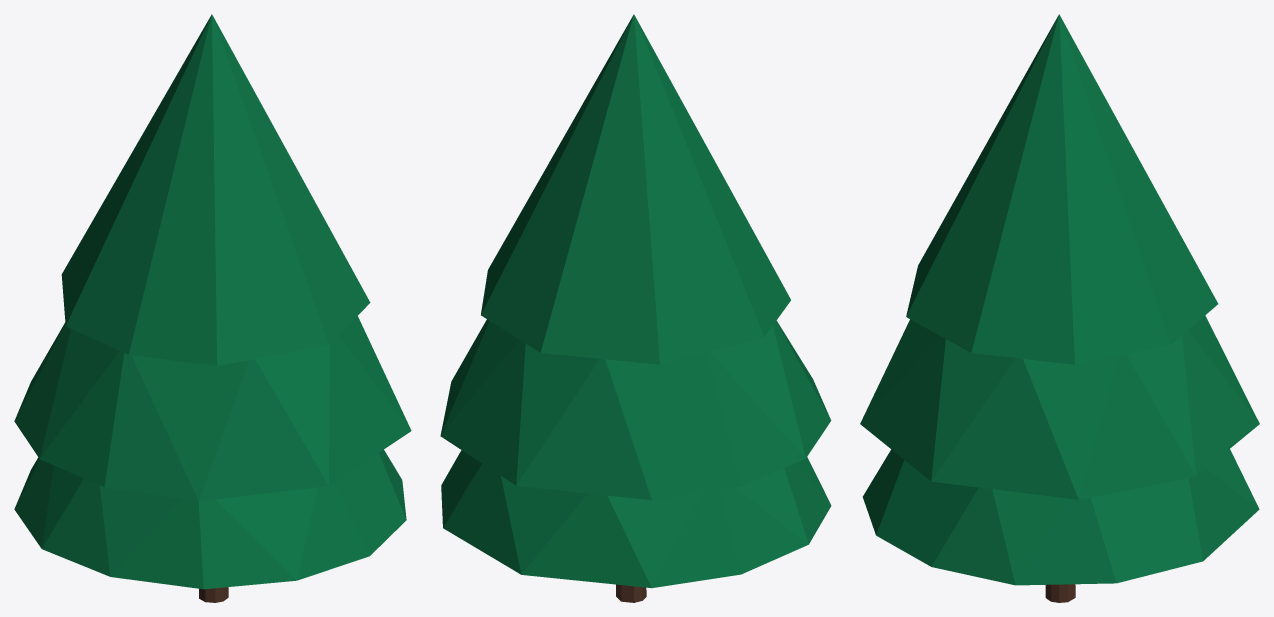
File: tree17.fbx
3 views of the same model, side by side, from view 1: azimuth 30°, elevation 25°; view 2: azimuth 150°, elevation 25°; view 3: azimuth 270°, elevation 25° (orthographic).
Parts seen in each view (by area): view 1: treetype17; view 2: treetype17; view 3: treetype17.
Part boxes in pixels (box(x1,y1,x2,y2)): treetype17: box(14, 14, 411, 602); treetype17: box(440, 14, 831, 602); treetype17: box(860, 14, 1259, 602).
Bounding box in the file's own units: 103 × 166 × 104.
